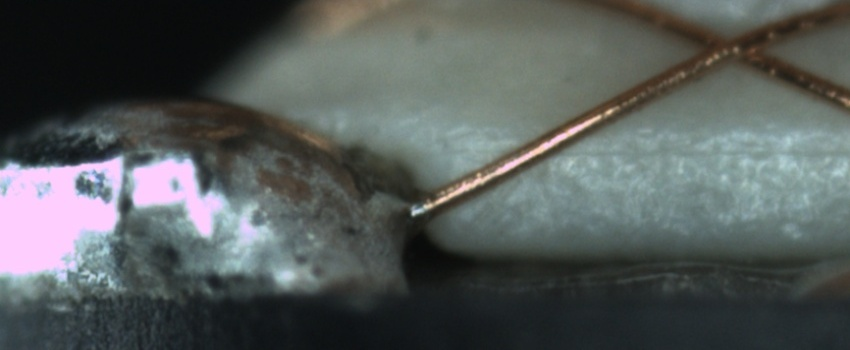CL: (676, 12, 783, 78)
DL: (452, 117, 850, 176)
TS: (405, 199, 428, 218)
